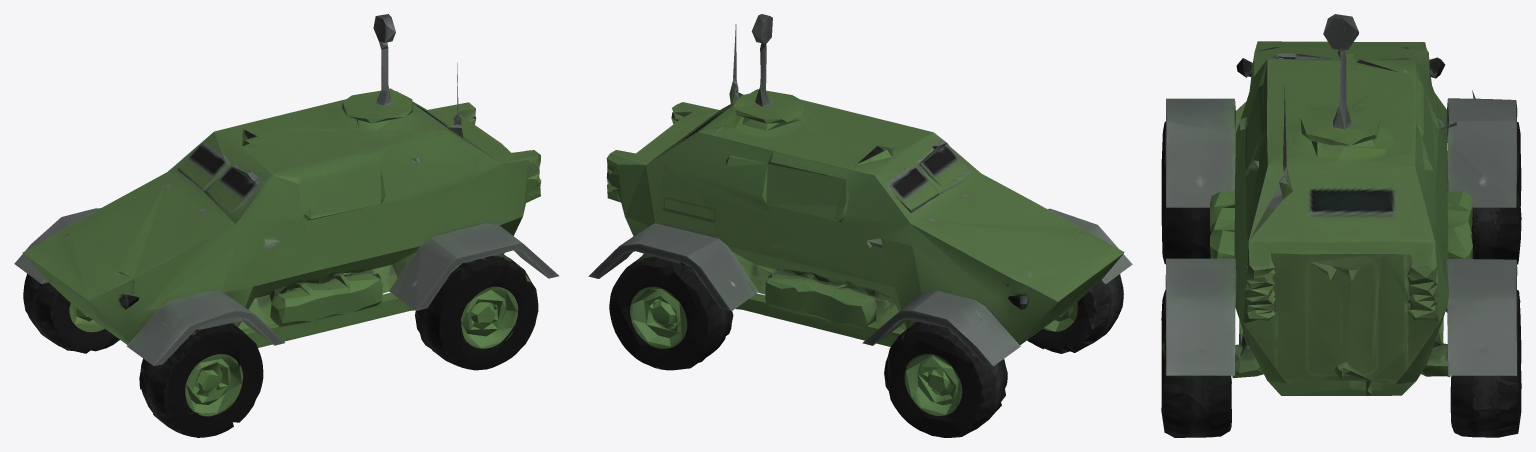
The picture shows the model from 3 angles, left to right: view 1: azimuth 30°, elevation 25°; view 2: azimuth 150°, elevation 25°; view 3: azimuth 270°, elevation 25°; orthographic projection. The views are drawn at different scales.
Parts seen in each view (by area): view 1: output_unwrapped; view 2: output_unwrapped; view 3: output_unwrapped.
Boxes of the visible parts, x1=… form: output_unwrapped: x1=14, y1=14, x2=559, y2=437; output_unwrapped: x1=588, y1=14, x2=1132, y2=437; output_unwrapped: x1=1161, y1=14, x2=1521, y2=437.
Size of the model in its own units: 1.9 by 1.26 by 1.05.
Materials: 1 (1 with a texture image).
